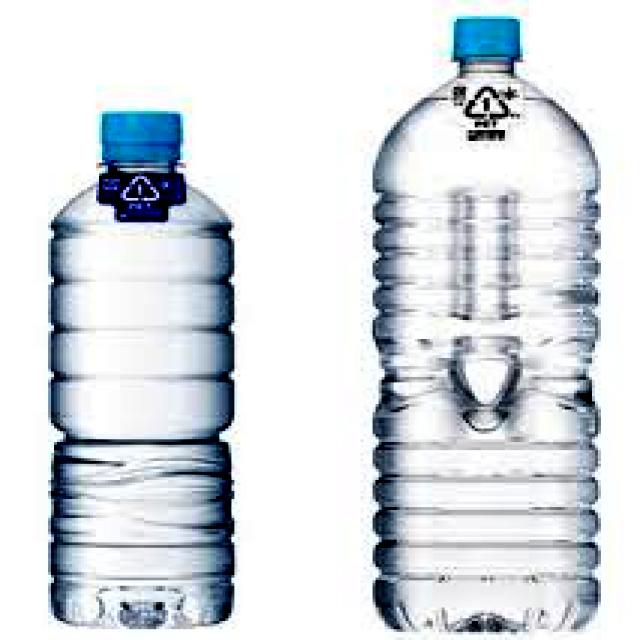Plastic: (368, 16, 615, 640), (44, 105, 243, 632)
